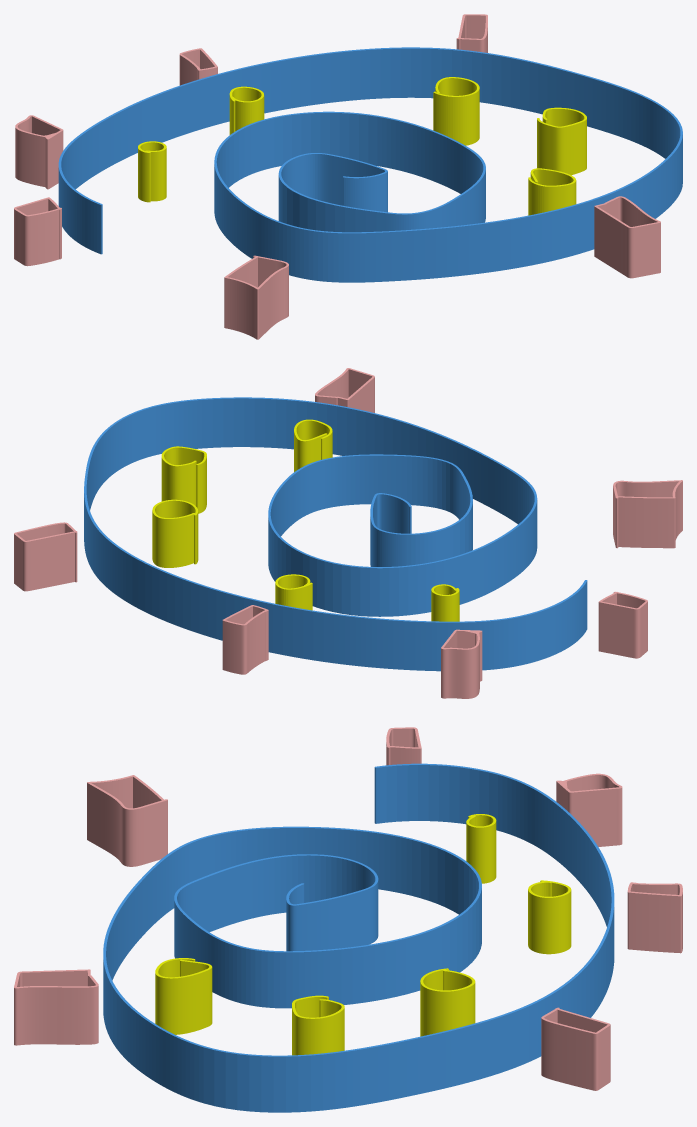
Rendered from test_raum.gltf.
The picture shows the model from 3 angles, top to bottom: view 1: azimuth 30°, elevation 25°; view 2: azimuth 150°, elevation 25°; view 3: azimuth 270°, elevation 25°; orthographic projection. The views are drawn at different scales.
Visible parts, largest first — view 1: 127-0-0-1-5500-aframe-escape-experiments-riddles-aframe-maze; view 2: 127-0-0-1-5500-aframe-escape-experiments-riddles-aframe-maze; view 3: 127-0-0-1-5500-aframe-escape-experiments-riddles-aframe-maze.
Part boxes in pixels (x1,y1,x2,y2): 127-0-0-1-5500-aframe-escape-experiments-riddles-aframe-maze: [14, 14, 682, 339]; 127-0-0-1-5500-aframe-escape-experiments-riddles-aframe-maze: [14, 368, 682, 698]; 127-0-0-1-5500-aframe-escape-experiments-riddles-aframe-maze: [14, 727, 682, 1112].
Size of what is drawn, in the model's own units: 37.76 by 3.07 by 32.48.
